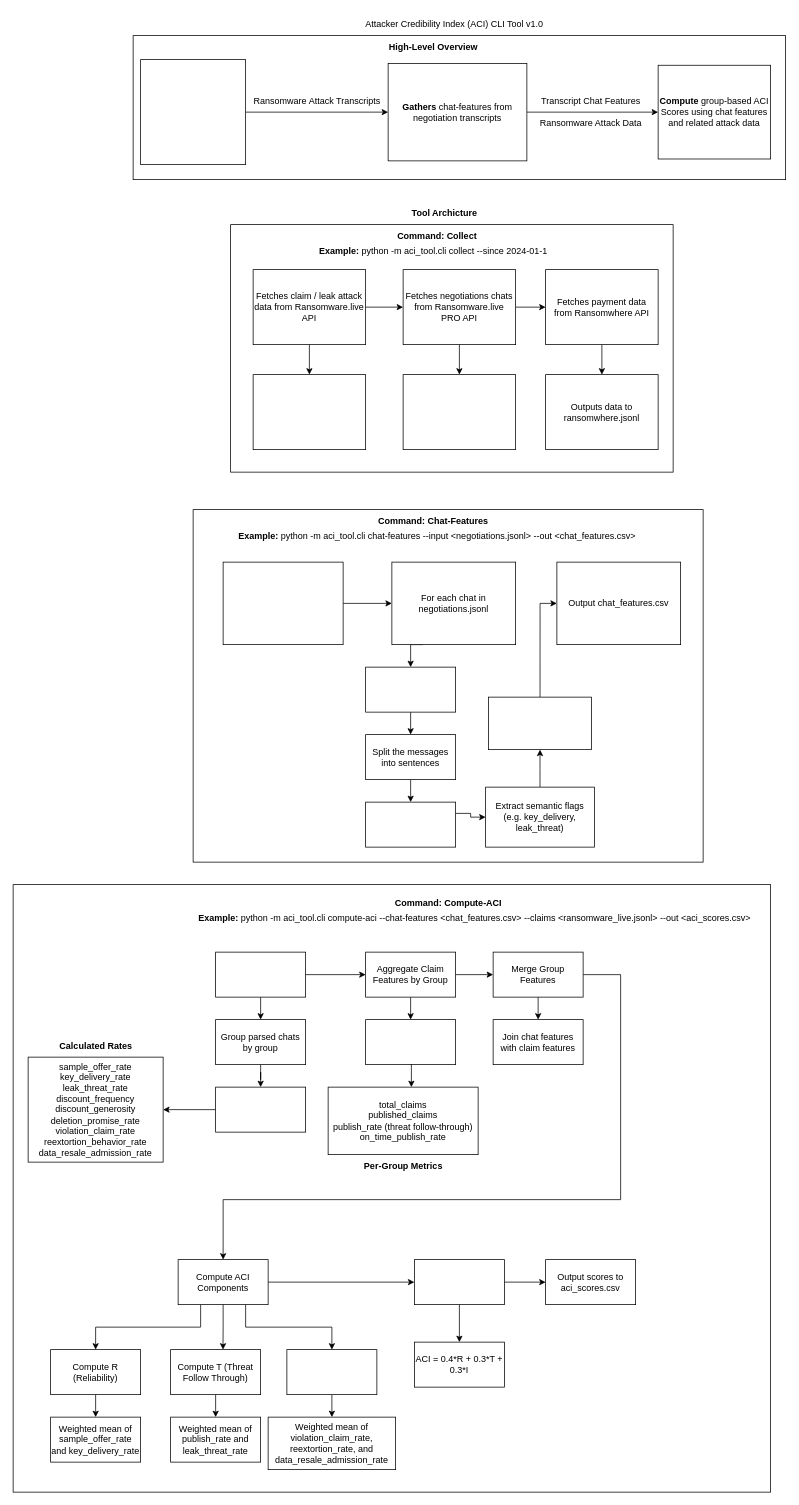
This 799x1505 diagram has some shape labels left out. The centre of each missing label's shape, as x and y in pixels:
Aggregate Chat Features by Group: the point at 260,974
Calculate Final ACI Score: the point at 459,1282
Calculate per-group metrics: the point at 410,1042
Calculate per-group rates: the point at 260,1109
Classify each sentence using semantic similarity: the point at 410,824
Collect Ransomware Attack Data From Ransomware.live and Ransomwhe.re: the point at 193,112
Compute discounts (if any): the point at 540,723
Compute I (Integrity): the point at 331,1372
Load sentence transformer "all-MiniLM-L6-v2": the point at 282,603
Outputs data to negotiations.jsonl: the point at 459,412
Outputs data to ransomware_live.jsonl: the point at 309,412
Parse ransom amounts: the point at 410,689
